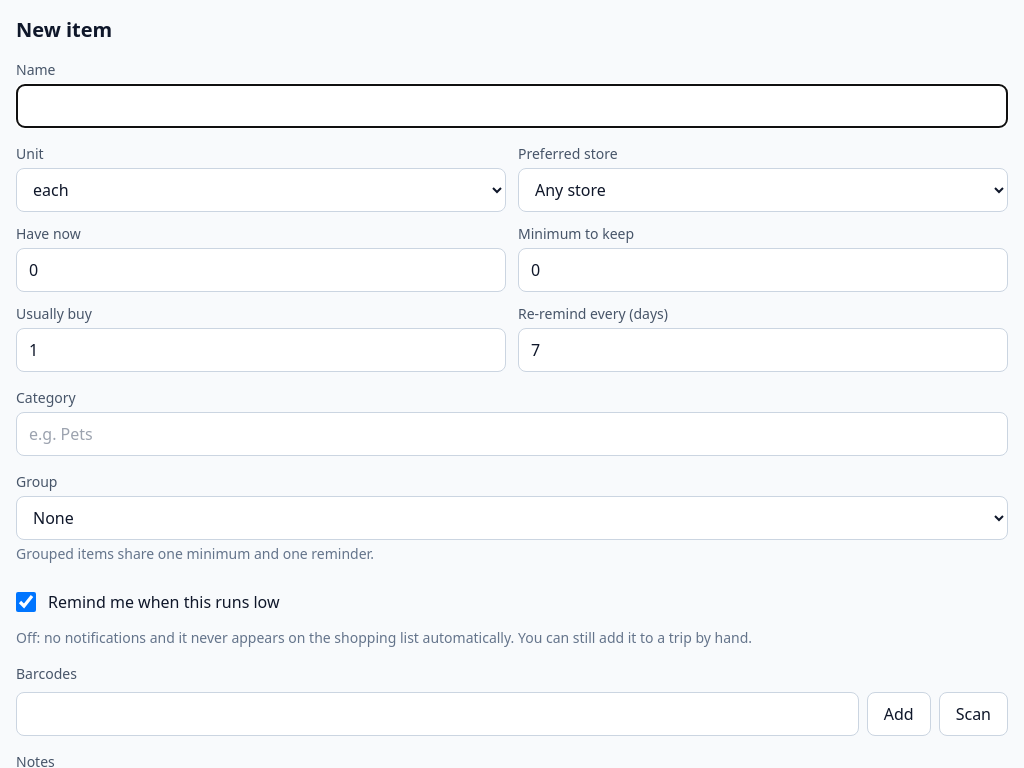
Test: ItemForm barcode chip list › clicking Add with an empty input shows an inline alert and adds nothing
Expected: the field named "Add barcode" is shown, [16, 692, 859, 736]
Click the button "Add" at (899, 714), box [867, 692, 931, 736]
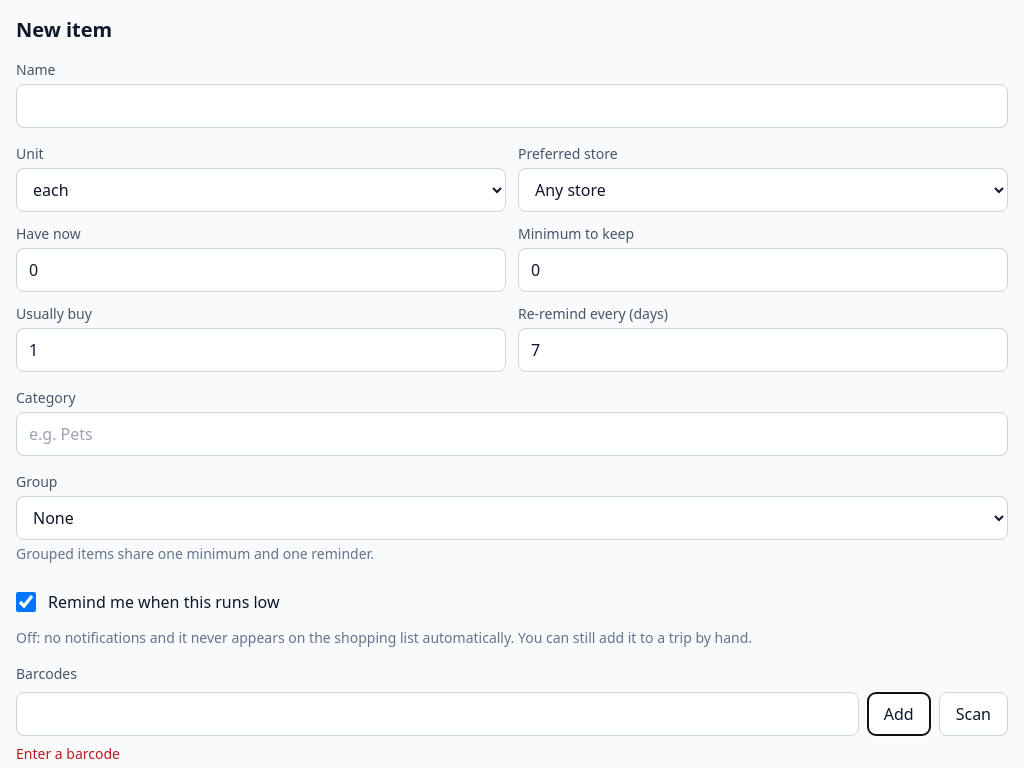
Expected: the message reads "Enter a barcode", [16, 744, 120, 763]
